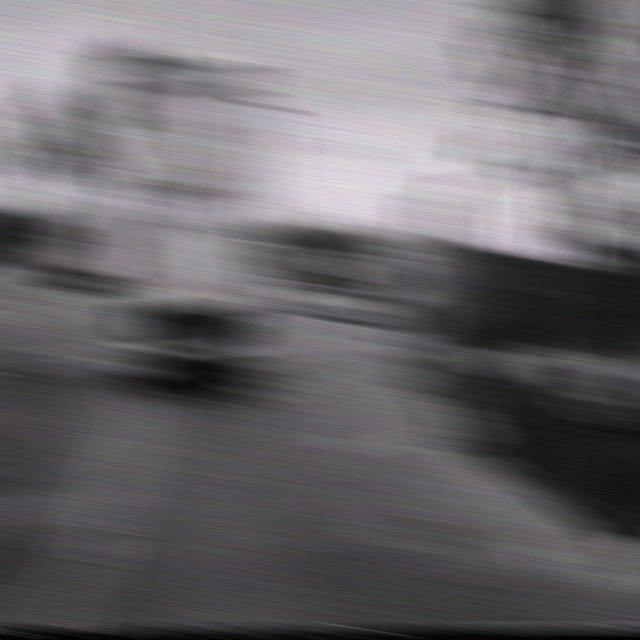stop: (559, 134, 627, 223)
